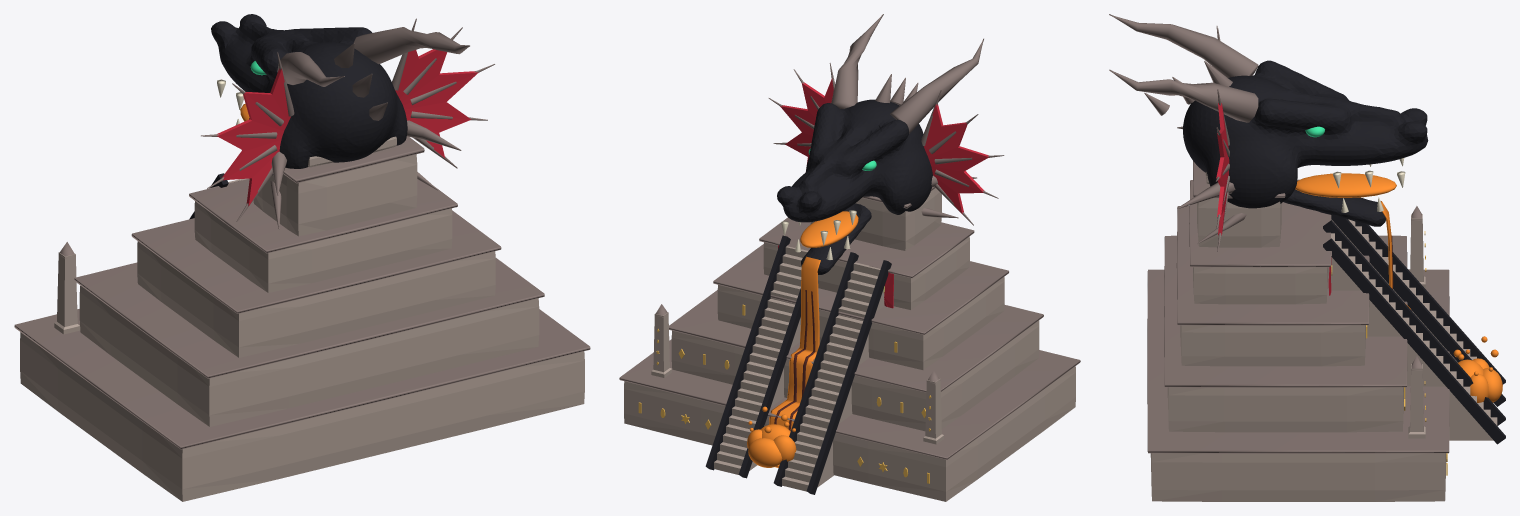
File: DragonTemple.obj
The picture shows the model from 3 angles, left to right: view 1: azimuth 30°, elevation 25°; view 2: azimuth 150°, elevation 25°; view 3: azimuth 270°, elevation 25°; orthographic projection. The views are drawn at different scales.
Visible parts, largest first — view 1: Stone, Trim, Dark, Cloth; view 2: Stone, Trim, Dark, Lava, Cloth, Crust, Glow; view 3: Stone, Trim, Dark, Lava, Cloth, Teeth.
Part boxes in pixels (<box>): Stone: <box>20,136,584,501</box>; Trim: <box>14,18,590,449</box>; Dark: <box>189,14,407,219</box>; Cloth: <box>217,49,478,206</box>; Stone: <box>624,188,1075,501</box>; Trim: <box>619,14,1080,459</box>; Dark: <box>705,99,932,494</box>; Lava: <box>747,211,858,467</box>; Cloth: <box>778,79,989,308</box>; Crust: <box>774,290,815,430</box>; Glow: <box>638,304,931,483</box>; Stone: <box>1150,172,1497,501</box>; Trim: <box>1109,14,1449,453</box>; Dark: <box>1183,60,1505,444</box>; Lava: <box>1295,173,1502,402</box>; Cloth: <box>1216,103,1331,295</box>; Teeth: <box>1333,158,1405,212</box>.
Bounding box in the file's own units: 102 × 97.52 × 93.86.
